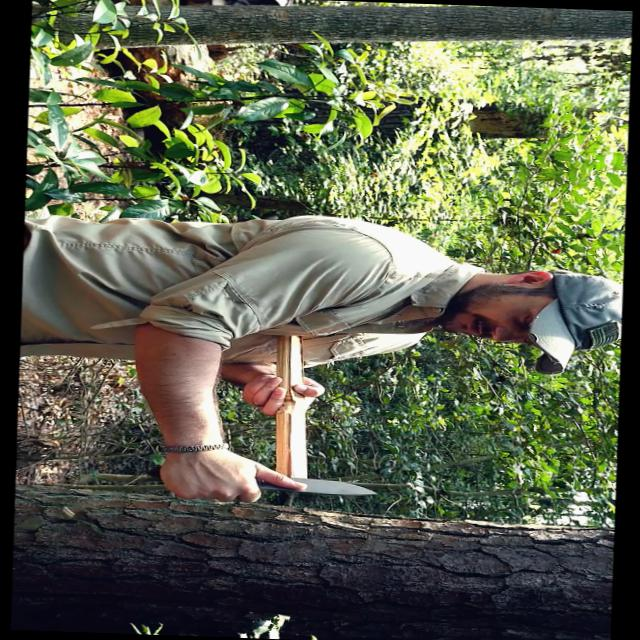knife: (150, 454, 388, 514)
